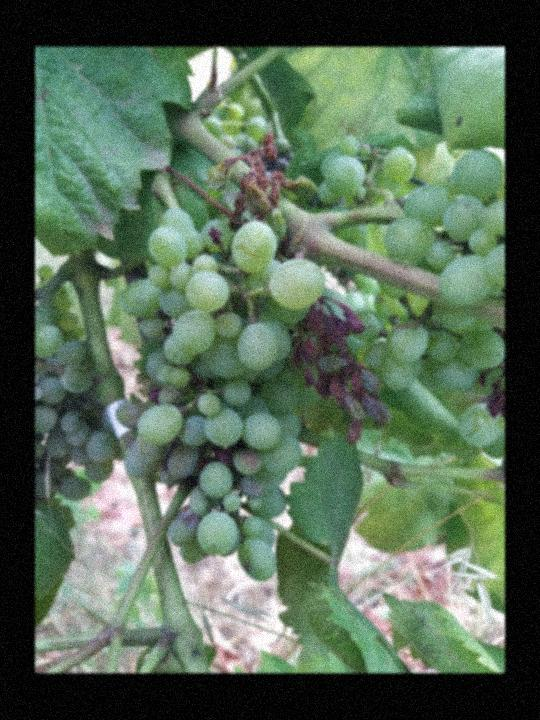grape: (111, 166, 330, 585)
